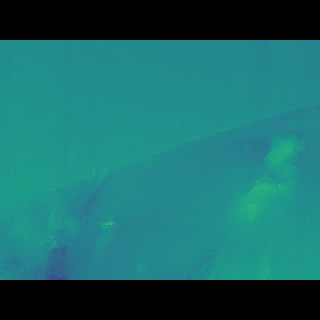Loch: (9, 136, 310, 247)
